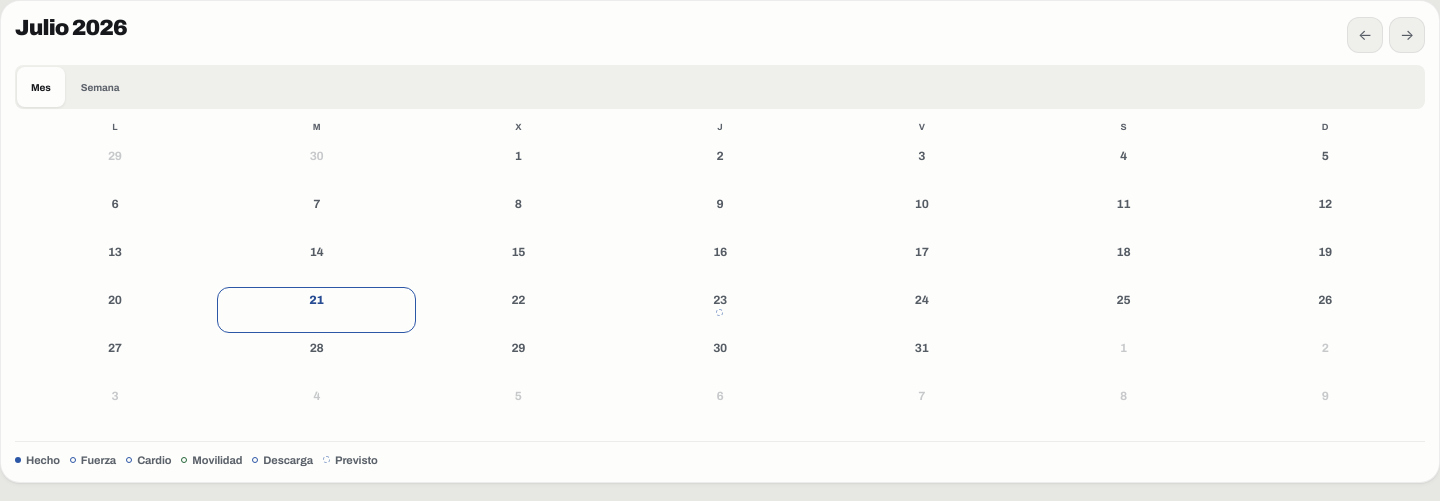
Scenario: Calendar — vista semana › lee la previsión del ciclo, marcada como tal
Click the tab "Semana" at (100, 87), box [67,67,133,107]
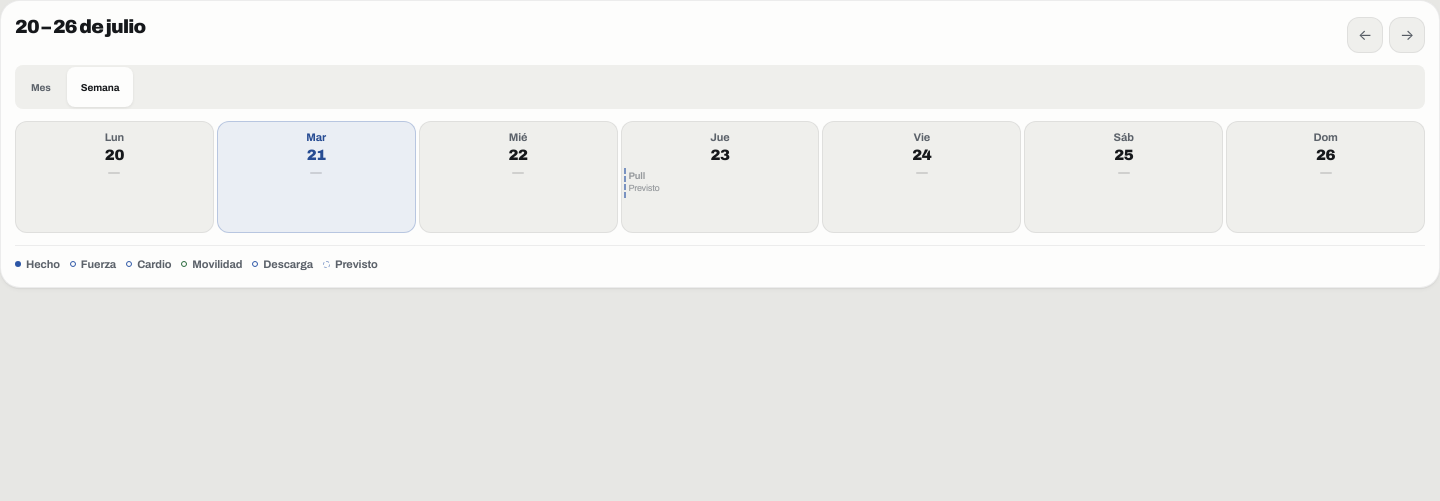
Check: the text "Pull" is shown, box [629,170,645,180]
